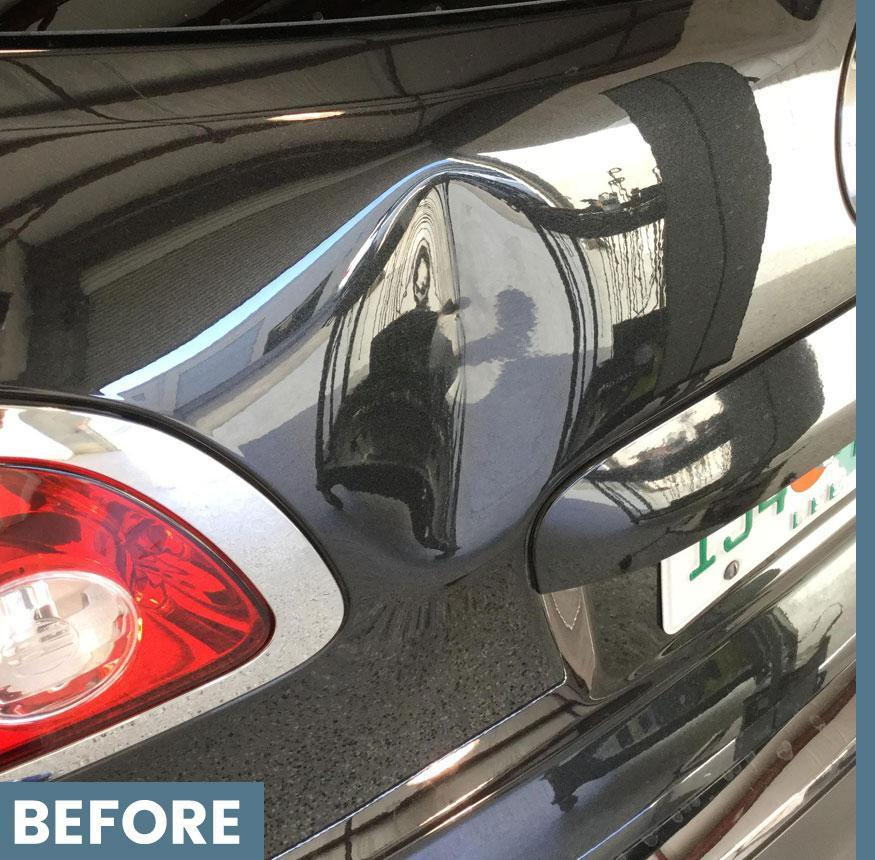dent: (300, 156, 590, 571)
